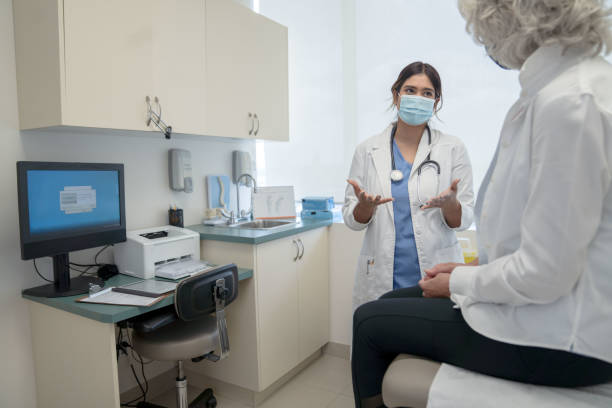cabinet: (16, 2, 301, 141)
chair: (135, 262, 239, 408)
computer: (16, 161, 127, 297)
counter: (16, 259, 261, 403), (185, 219, 333, 403)
countertop: (28, 256, 252, 318), (187, 209, 342, 236)
dispenser: (167, 148, 195, 191), (233, 148, 256, 183)
exam_table: (381, 353, 612, 408)
faucet: (218, 206, 237, 226)
handle: (144, 95, 152, 127), (154, 95, 162, 126), (292, 239, 300, 262), (297, 238, 304, 260), (254, 113, 260, 136), (248, 113, 254, 135)
patient: (351, 1, 612, 408)
sink: (232, 219, 294, 230)
staff: (341, 62, 476, 309)
